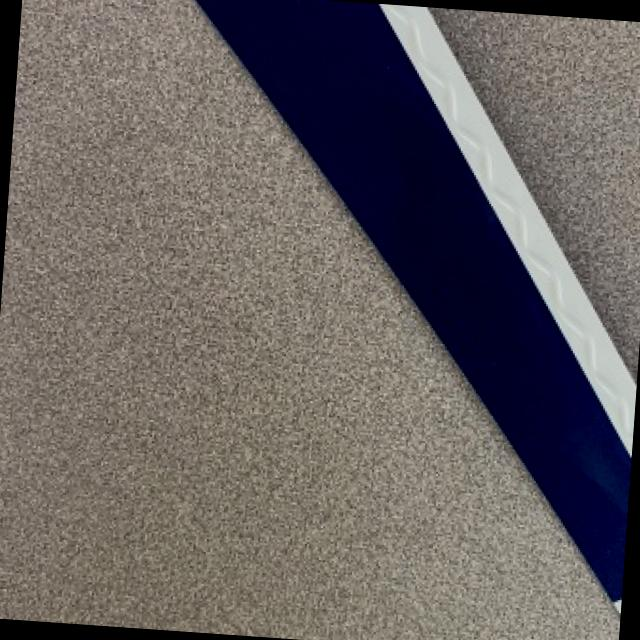healthy: (0, 0, 618, 640), (436, 7, 640, 372)
